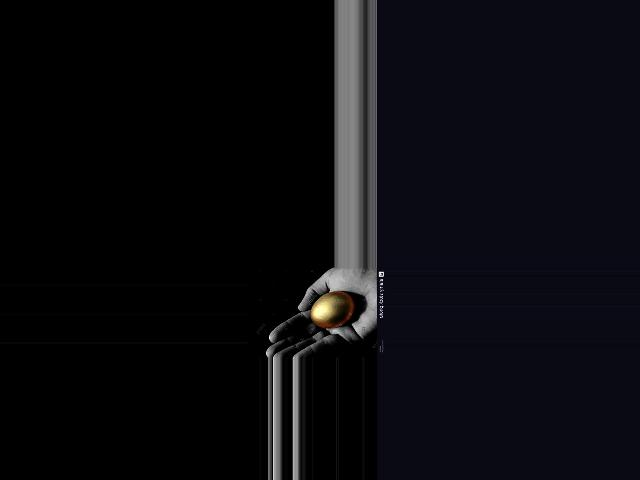egg: (310, 292, 354, 328)
